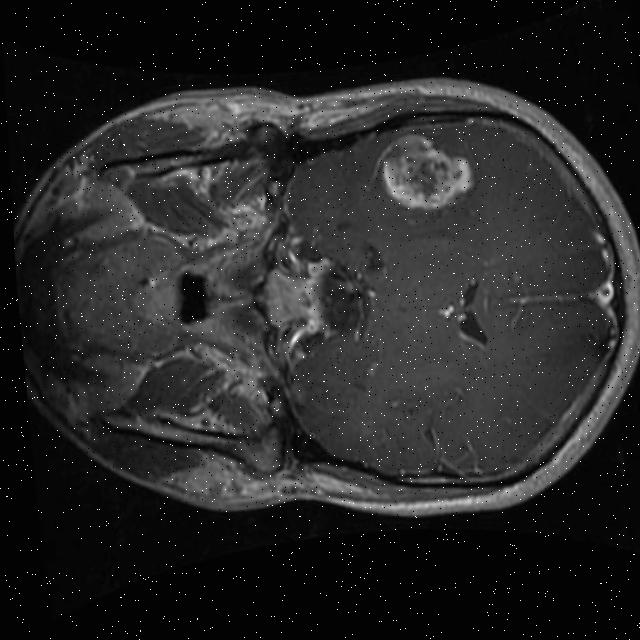Glioma: (372, 128, 478, 217)
Pituitary: (261, 262, 313, 327)
